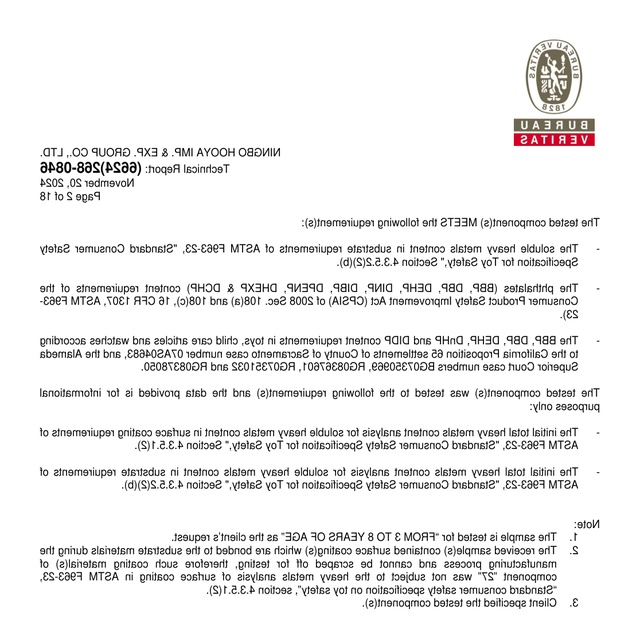bureau_veritas: (512, 38, 596, 146)
